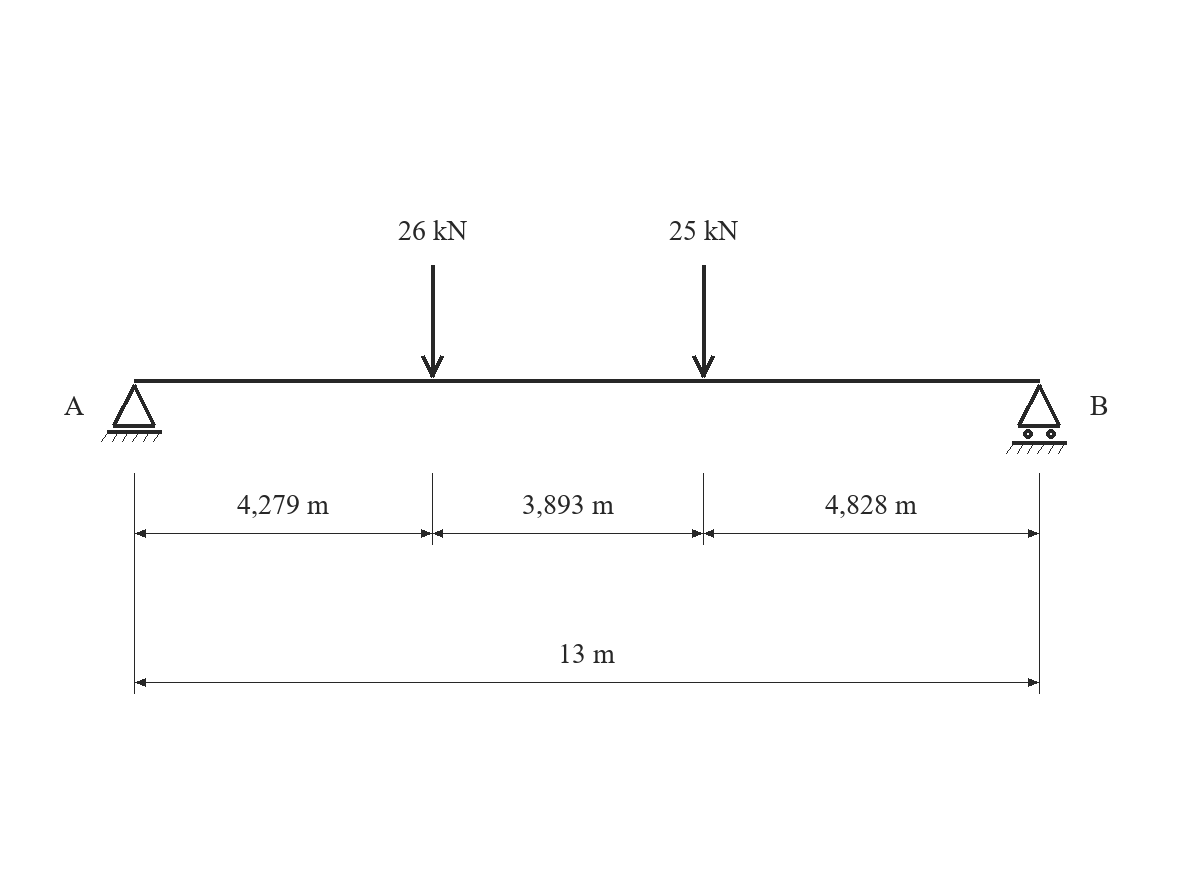pin_support: (101, 384, 162, 442)
point_load: (421, 265, 444, 378), (692, 265, 715, 378)
roller_support: (1006, 384, 1067, 454)
